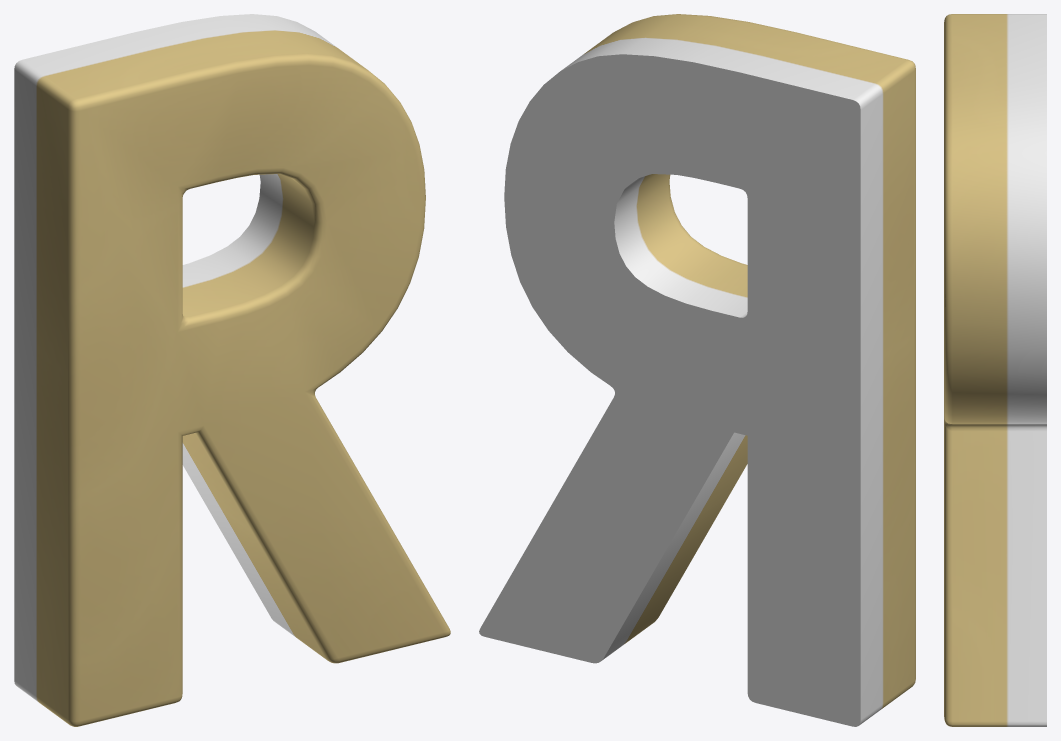
Rendered from LettersLightUp01_R.FBX.
3 renders of one model, left to right at view 1: azimuth 30°, elevation 25°; view 2: azimuth 150°, elevation 25°; view 3: azimuth 270°, elevation 25°, orthographic. The views are drawn at different scales.
Visible parts, largest first — view 1: LettersLightUp01_R; view 2: LettersLightUp01_R; view 3: LettersLightUp01_R.
Boxes of the visible parts, x1,y1,x2,y2 form: LettersLightUp01_R: (14, 14, 450, 726); LettersLightUp01_R: (479, 14, 915, 726); LettersLightUp01_R: (944, 14, 1046, 726).
Size of what is drawn, in the model's own units: 0.3824 by 0.6001 by 0.1012.
